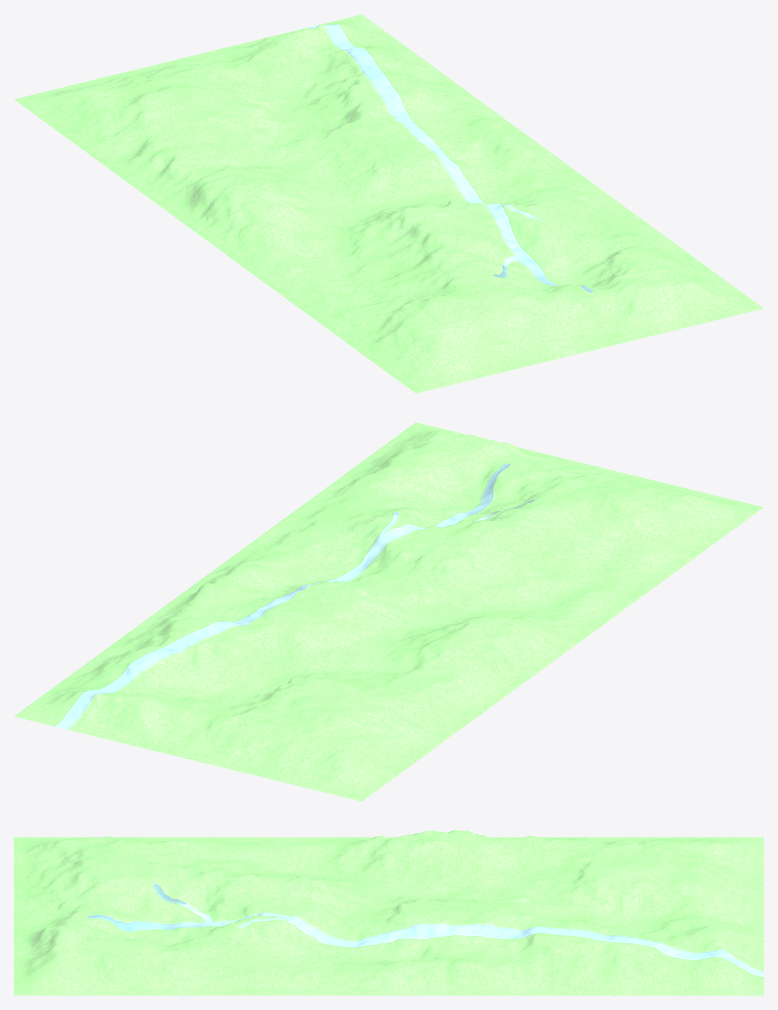
File: 山川河流.gltf
3 views of the same model, one above another, from view 1: azimuth 30°, elevation 25°; view 2: azimuth 150°, elevation 25°; view 3: azimuth 270°, elevation 25° (orthographic). The views are drawn at different scales.
Parts seen in each view (by area): view 1: Berg 3 Wide Variation 6.001; view 2: Berg 3 Wide Variation 6.001; view 3: Berg 3 Wide Variation 6.001.
Part boxes in pixels (bbox=[...]): Berg 3 Wide Variation 6.001: bbox=[14, 14, 763, 393]; Berg 3 Wide Variation 6.001: bbox=[14, 422, 763, 801]; Berg 3 Wide Variation 6.001: bbox=[14, 830, 763, 995].
Size of the model in its own units: 10 by 0.8931 by 20.
Materials: 1 (1 with a texture image).
